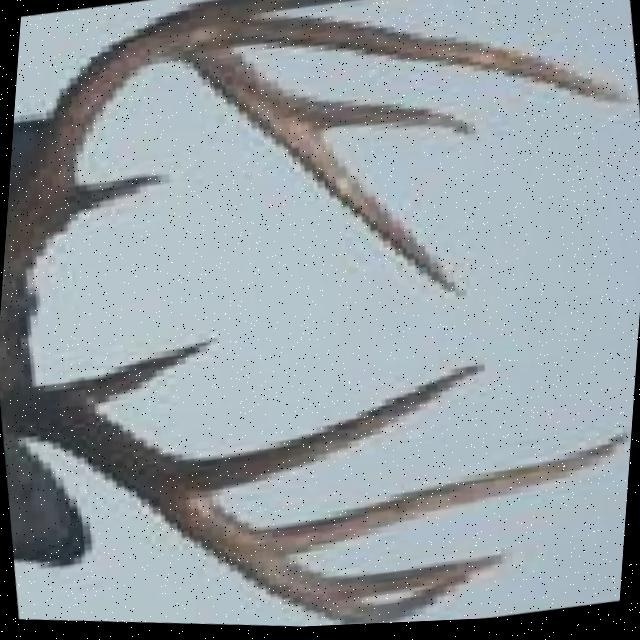L-F: (7, 382, 477, 628)
L-G1: (67, 338, 220, 406)
L-G2: (176, 366, 485, 491)
L-G3: (256, 437, 631, 557)
R-F: (4, 3, 475, 302)
R-G1: (69, 172, 174, 223)
R-G2: (198, 0, 390, 20)
R-G3: (234, 16, 633, 111)
R-G4: (296, 97, 480, 140)
